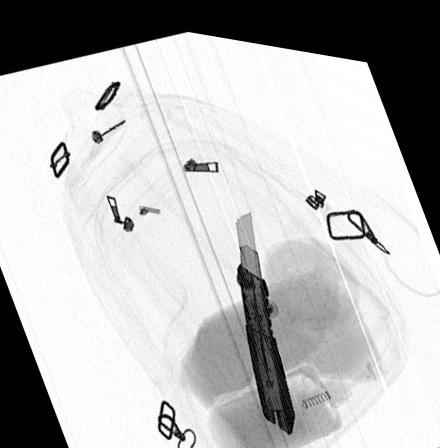Knife: (233, 204, 296, 425)
